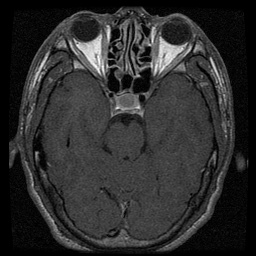pituitary: (113, 88, 142, 111)
